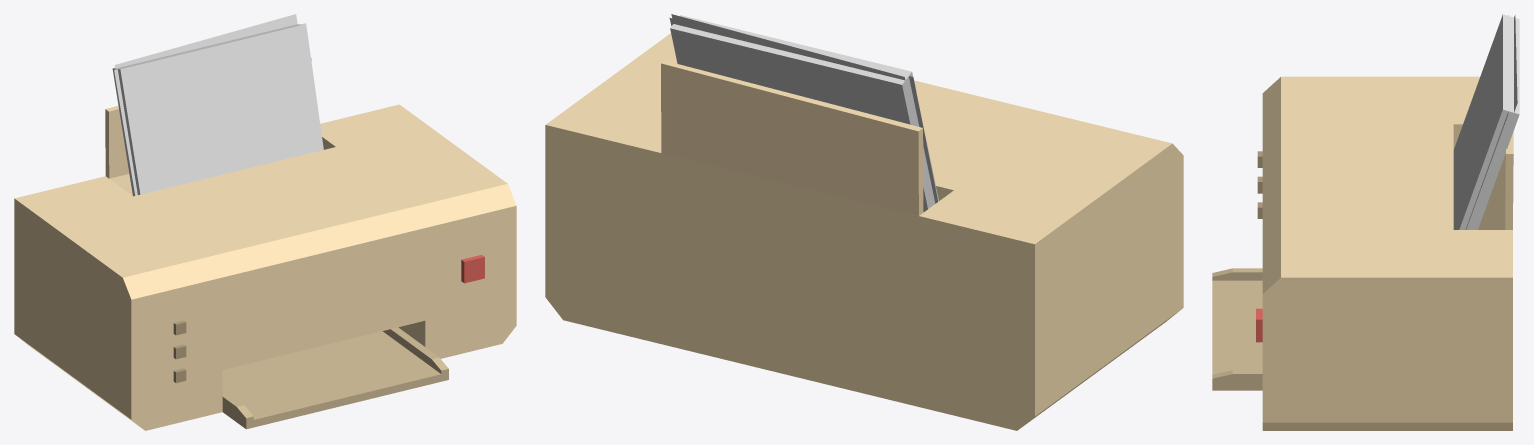
The model's file is Printer.fbx.
3 renders of one model, left to right at view 1: azimuth 30°, elevation 25°; view 2: azimuth 150°, elevation 25°; view 3: azimuth 270°, elevation 25°, orthographic. The views are drawn at different scales.
Parts seen in each view (by area): view 1: Printer, Paper, Button; view 2: Printer, Paper; view 3: Printer, Paper.
Boxes of the visible parts, x1=… form: Printer: x1=14, y1=58, x2=516, y2=430; Paper: x1=112, y1=14, x2=323, y2=196; Button: x1=461, y1=255, x2=484, y2=283; Printer: x1=545, y1=33, x2=1183, y2=430; Paper: x1=669, y1=14, x2=938, y2=211; Printer: x1=1212, y1=76, x2=1513, y2=430; Paper: x1=1453, y1=14, x2=1519, y2=229.
Size of the model in its own units: 65.26 by 42.73 by 42.19.
